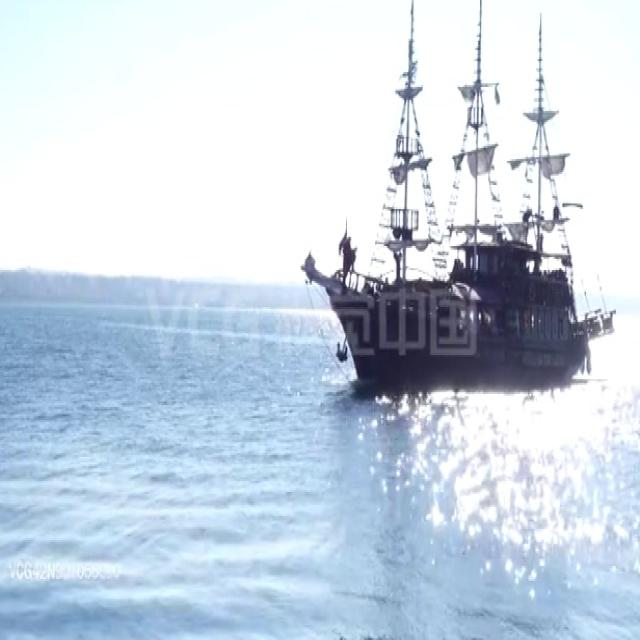sailboat: (296, 0, 609, 383)
